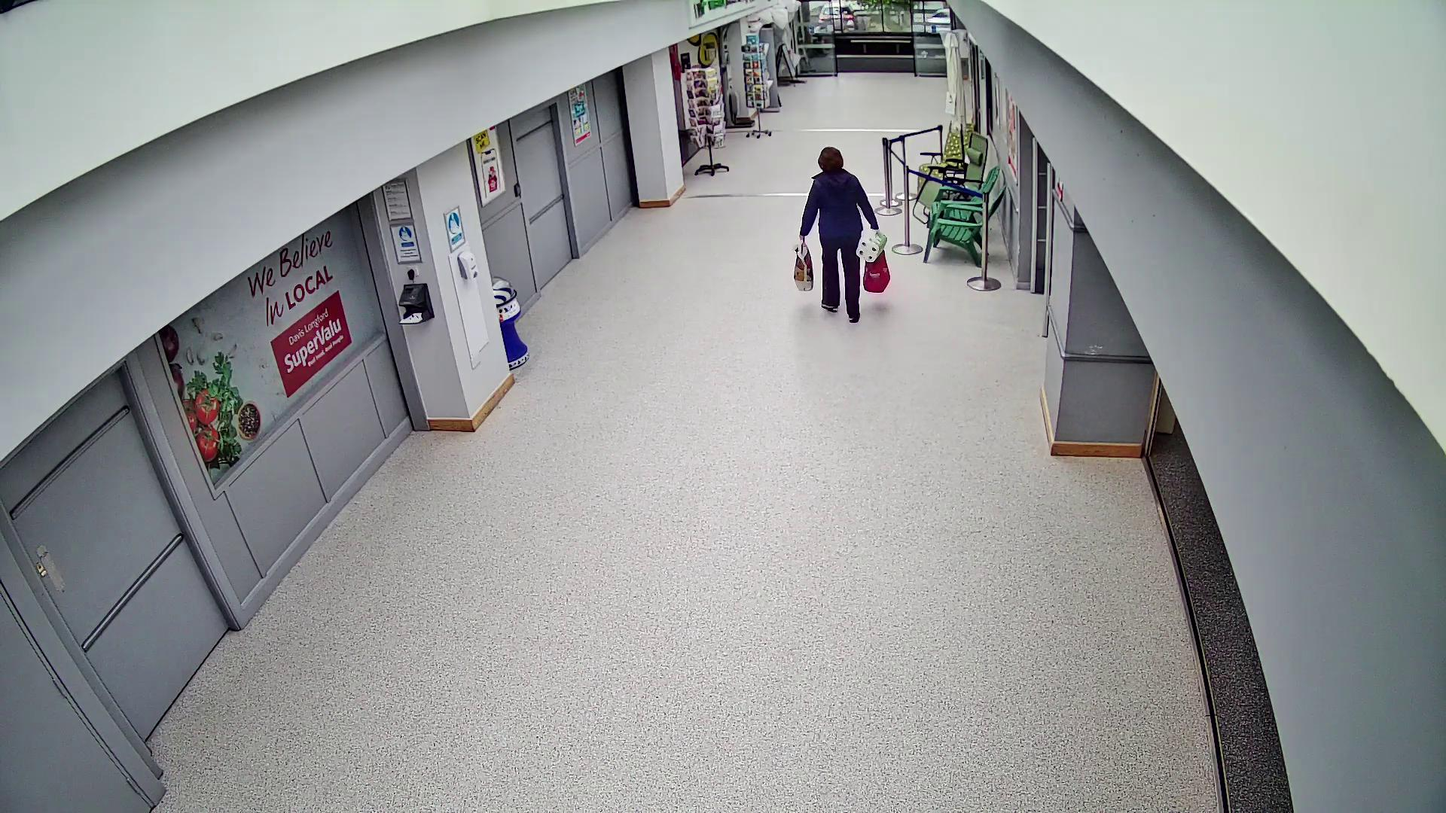carrying-item: (856, 228, 887, 262)
filled-shopping-bags: (863, 249, 890, 293), (794, 240, 814, 292)
person: (799, 147, 879, 323)
person with carrying item-s- and shopping bag-s-: (794, 146, 890, 323)
